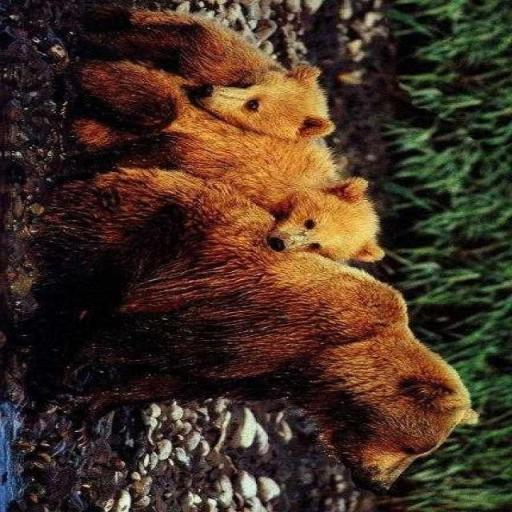Bear: (26, 166, 479, 492)
